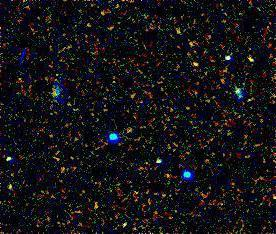star: (181, 43, 211, 73)
